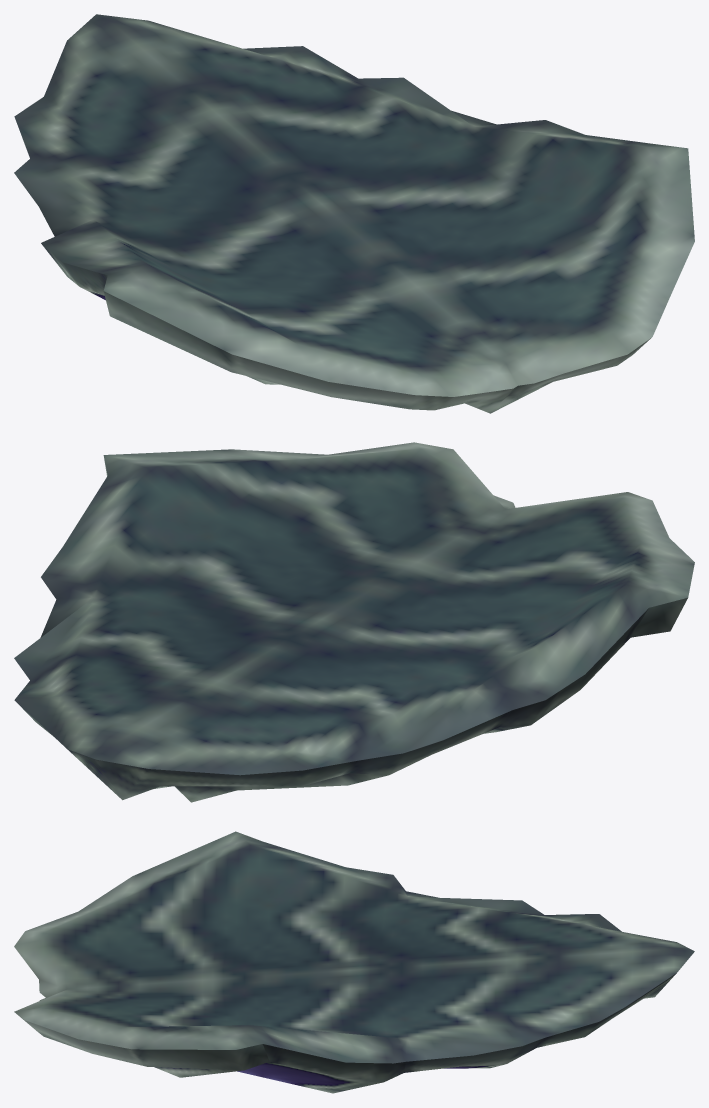
3 views of the same model, one above another, from view 1: azimuth 30°, elevation 25°; view 2: azimuth 150°, elevation 25°; view 3: azimuth 270°, elevation 25° (orthographic). The views are drawn at different scales.
Parts seen in each view (by area): view 1: skelly.model_r5-MeshNodes["bone_r4"]; view 2: skelly.model_r5-MeshNodes["bone_r4"]; view 3: skelly.model_r5-MeshNodes["bone_r4"].
Part boxes in pixels (x1=…): skelly.model_r5-MeshNodes["bone_r4"]: x1=14, y1=14, x2=694, y2=413; skelly.model_r5-MeshNodes["bone_r4"]: x1=14, y1=442, x2=694, y2=802; skelly.model_r5-MeshNodes["bone_r4"]: x1=14, y1=831, x2=694, y2=1093.
Size of the model in its own units: 0.7134 by 0.1976 by 0.9392.
1 material, 1 textured.
